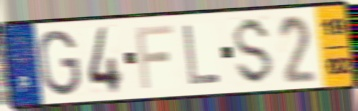2: (277, 13, 320, 85)
4: (86, 24, 125, 96)
F: (134, 23, 175, 91)
G: (36, 28, 83, 99)
L: (181, 23, 223, 87)
S: (233, 15, 276, 88)
